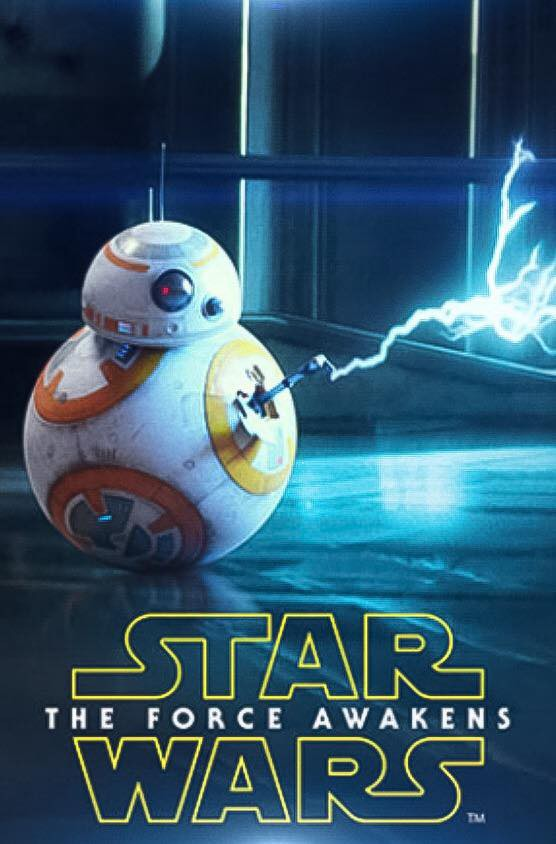bb8: (22, 221, 298, 567)
